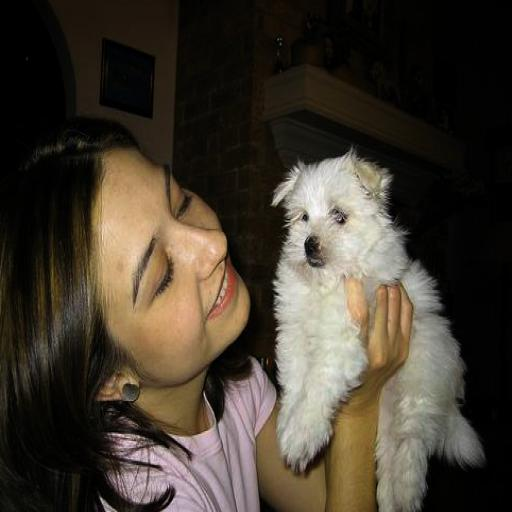dog_face: (270, 152, 381, 273)
